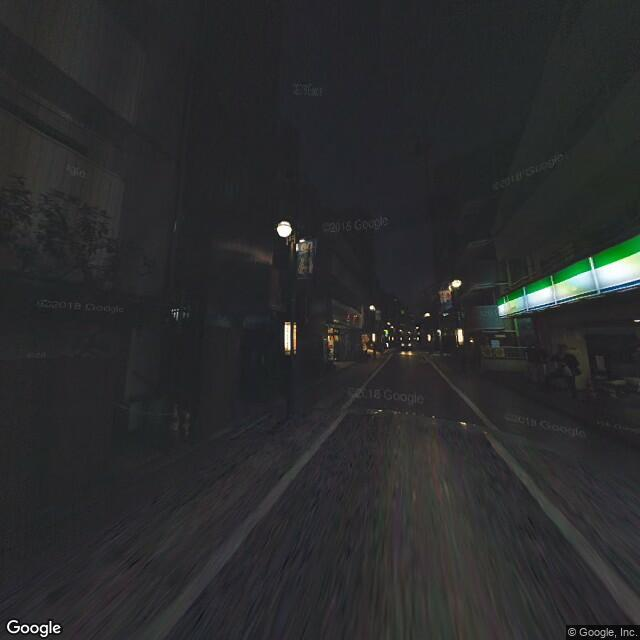family_mart: (500, 231, 639, 317)
